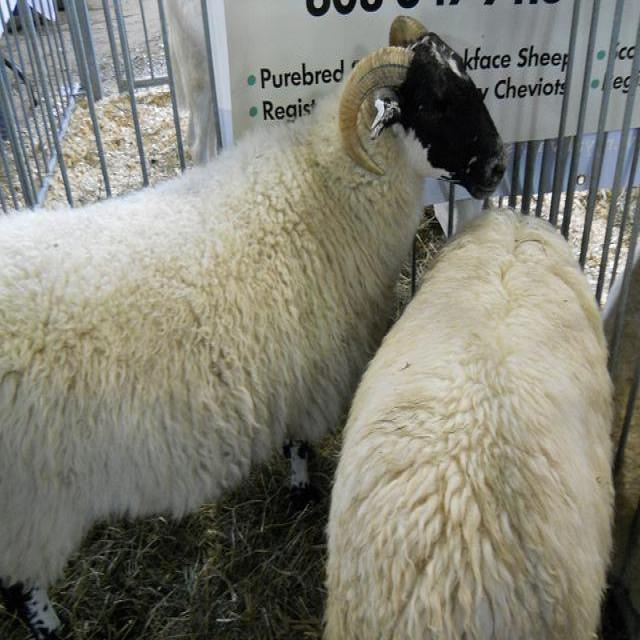Sheep: (4, 21, 506, 634), (319, 204, 615, 639)
